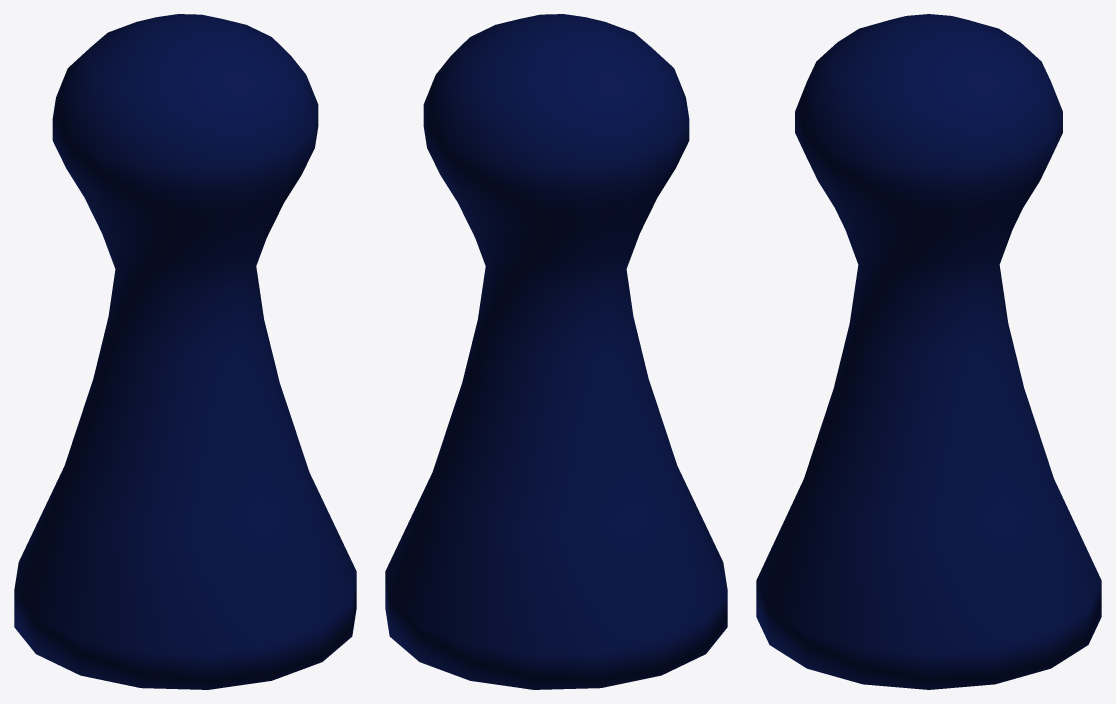
The model's file is dark_blue.glb.
3 renders of one model, left to right at view 1: azimuth 30°, elevation 25°; view 2: azimuth 150°, elevation 25°; view 3: azimuth 270°, elevation 25°, orthographic.
Visible parts, largest first — view 1: BlueGameFigure2; view 2: BlueGameFigure2; view 3: BlueGameFigure2.
Boxes of the visible parts, x1,y1,x2,y2 form: BlueGameFigure2: [14, 14, 356, 689]; BlueGameFigure2: [385, 14, 727, 689]; BlueGameFigure2: [756, 14, 1101, 689].
Size of the model in its own units: 2.27 by 4.25 by 2.27.
